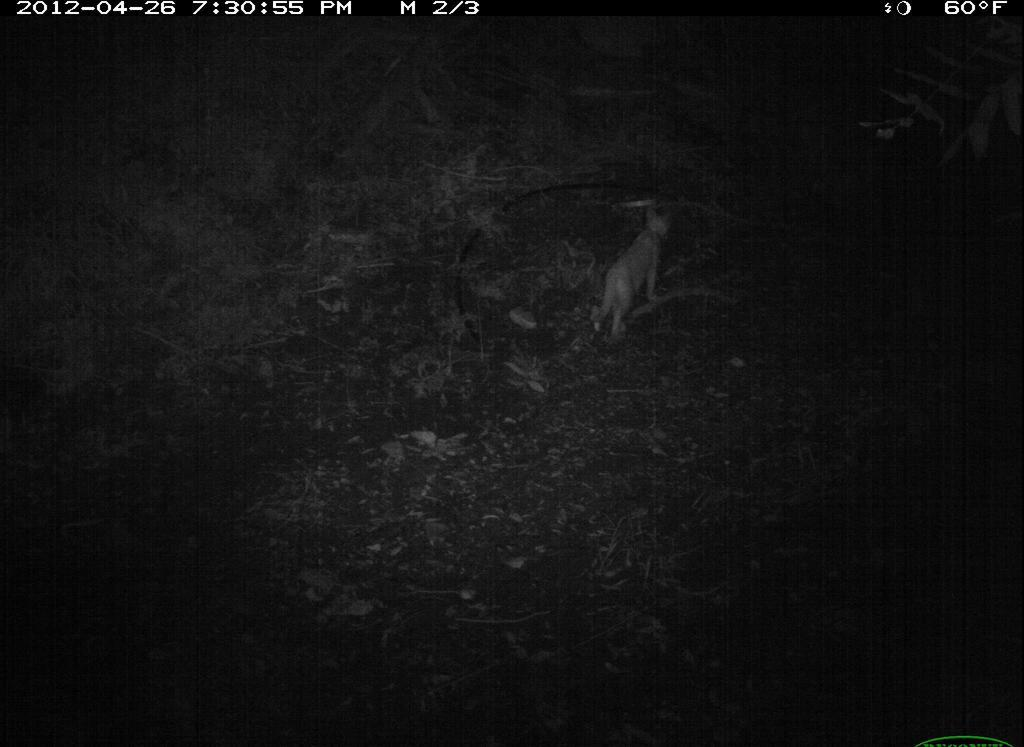cat: (589, 201, 678, 349)
